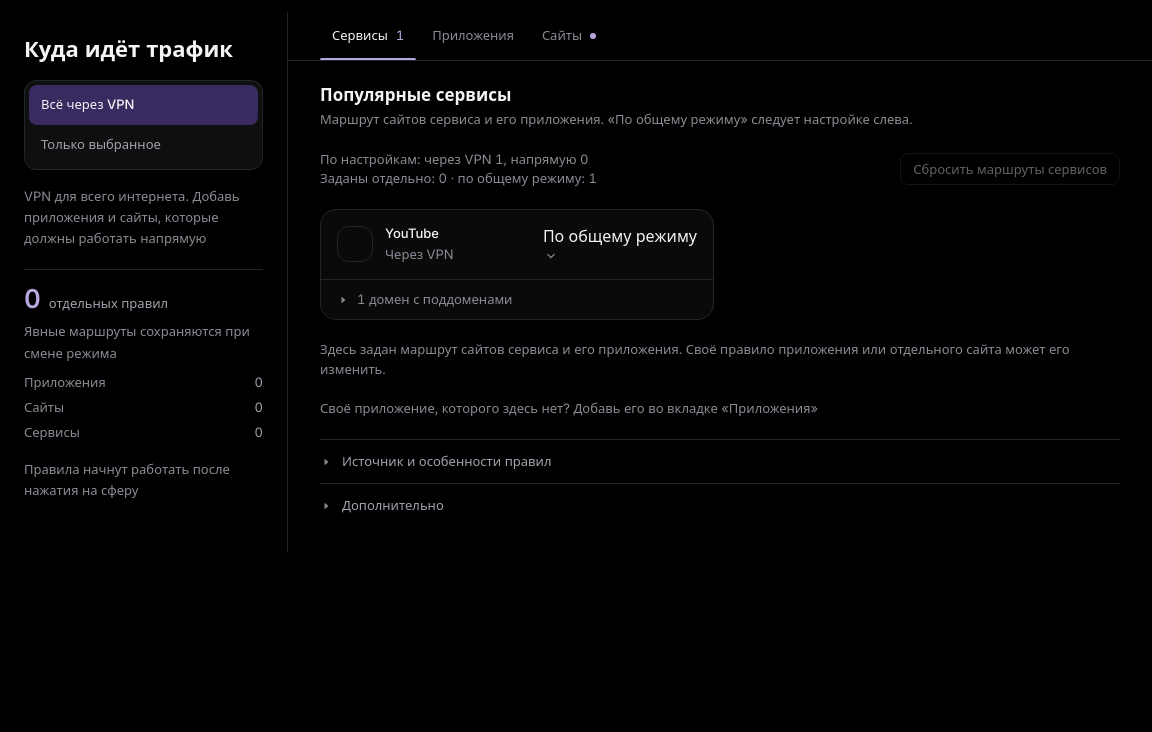
повторное нажатие во время применения не отправляет второй запрос
Click the radio button labelled "Только выбранное" at (144, 144), box [29,124,258,164]
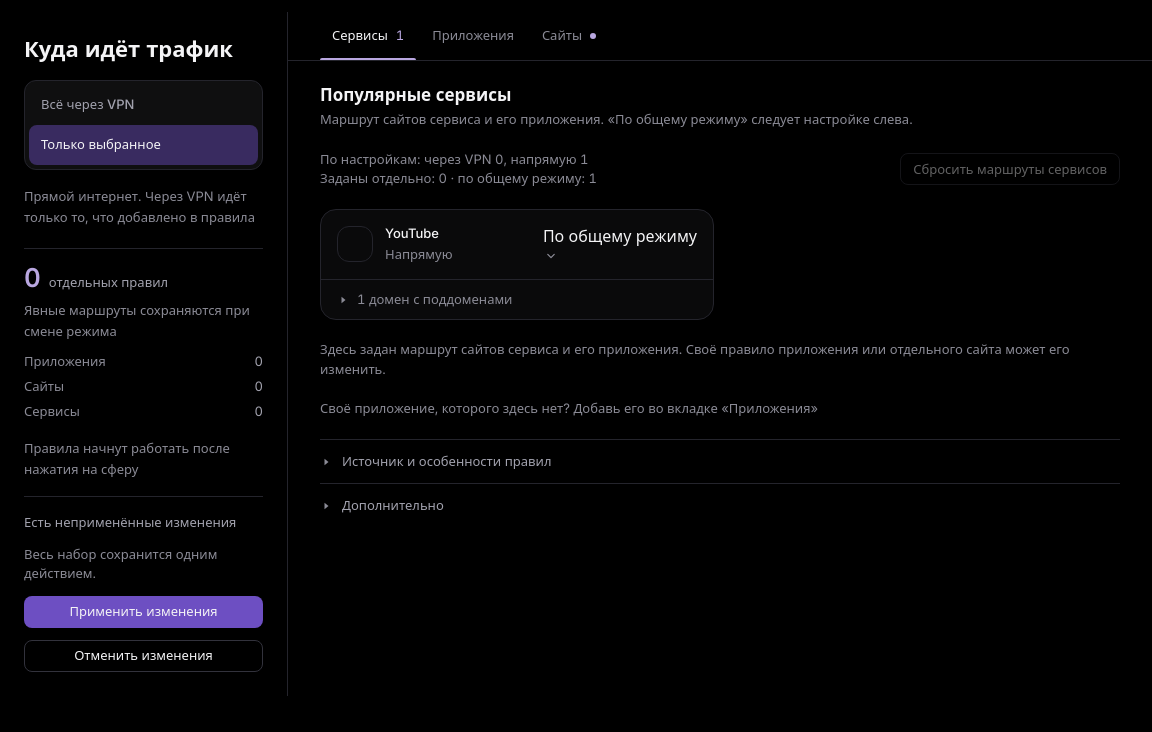
Click the button "Применить изменения" at (144, 612), box [24,596,263,628]
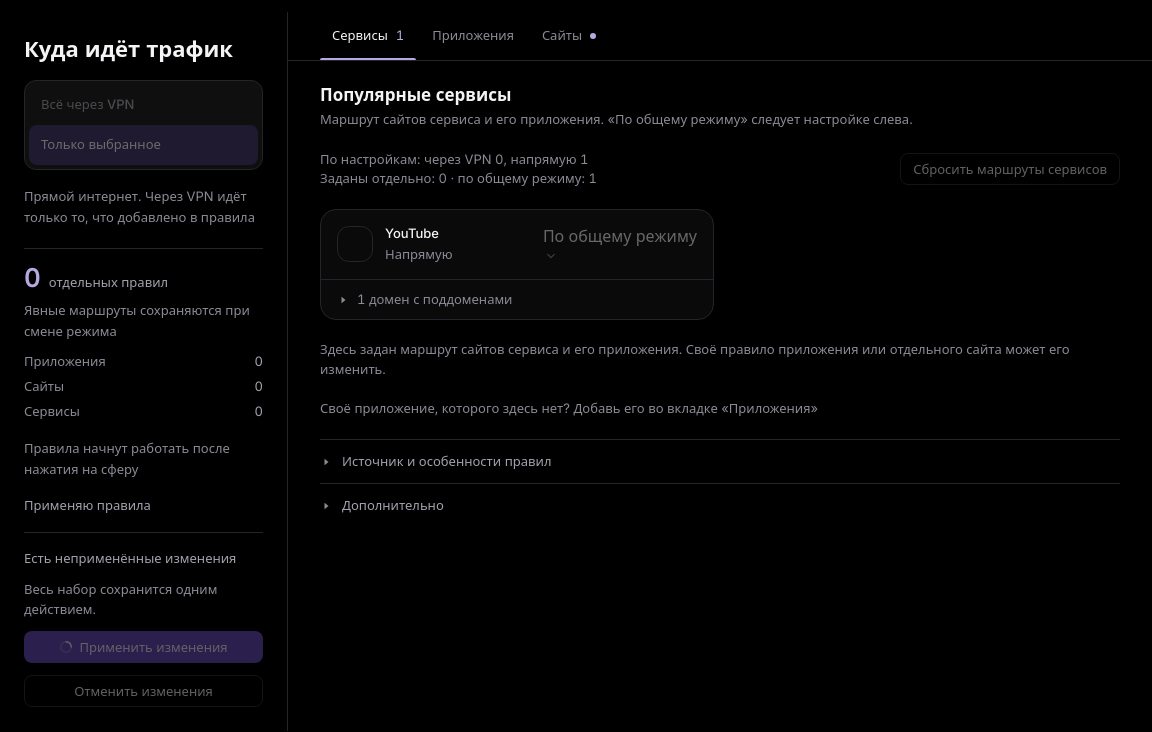
Result: the button "Применить изменения" is disabled
Click the button "Применить изменения" at (144, 647), box [24,631,263,663]
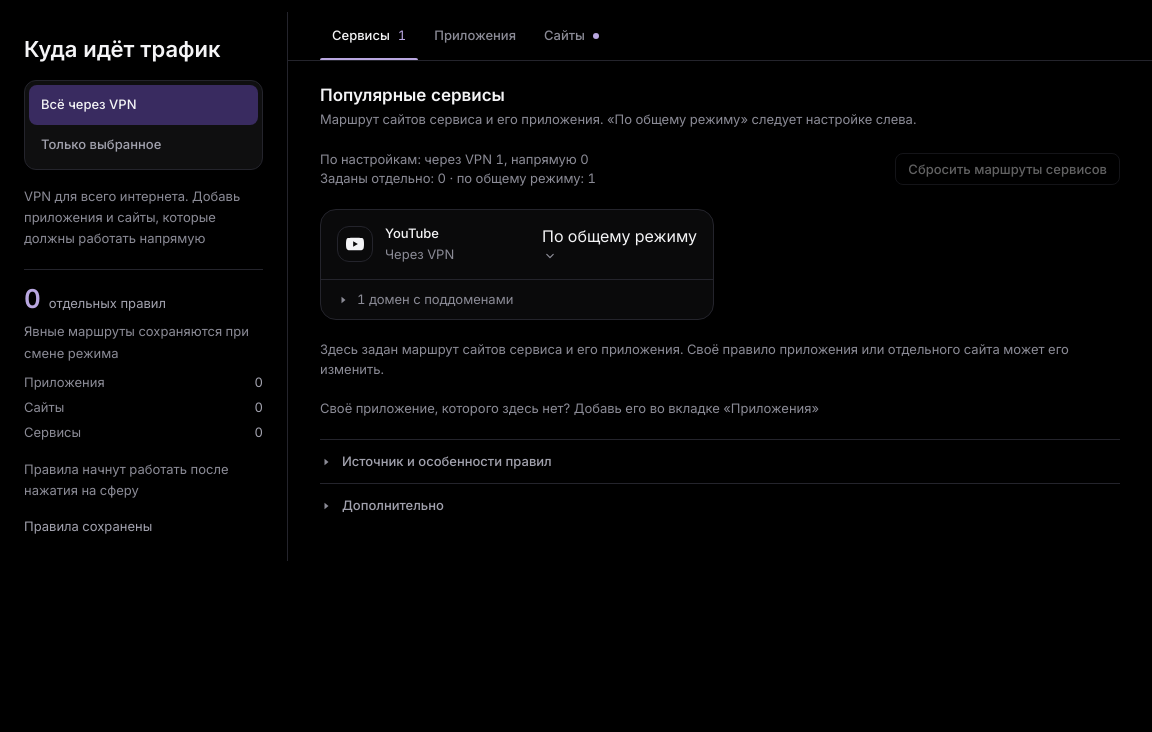
Result: the button "Применить изменения" is gone
